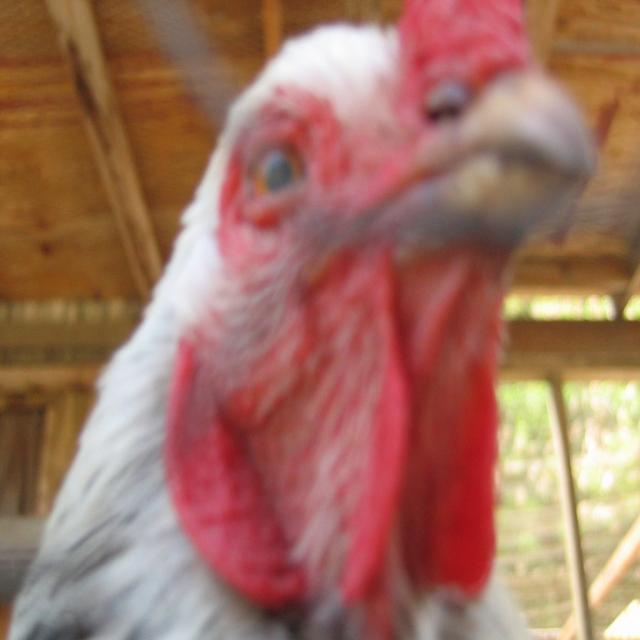Chicken: (6, 0, 595, 640)
